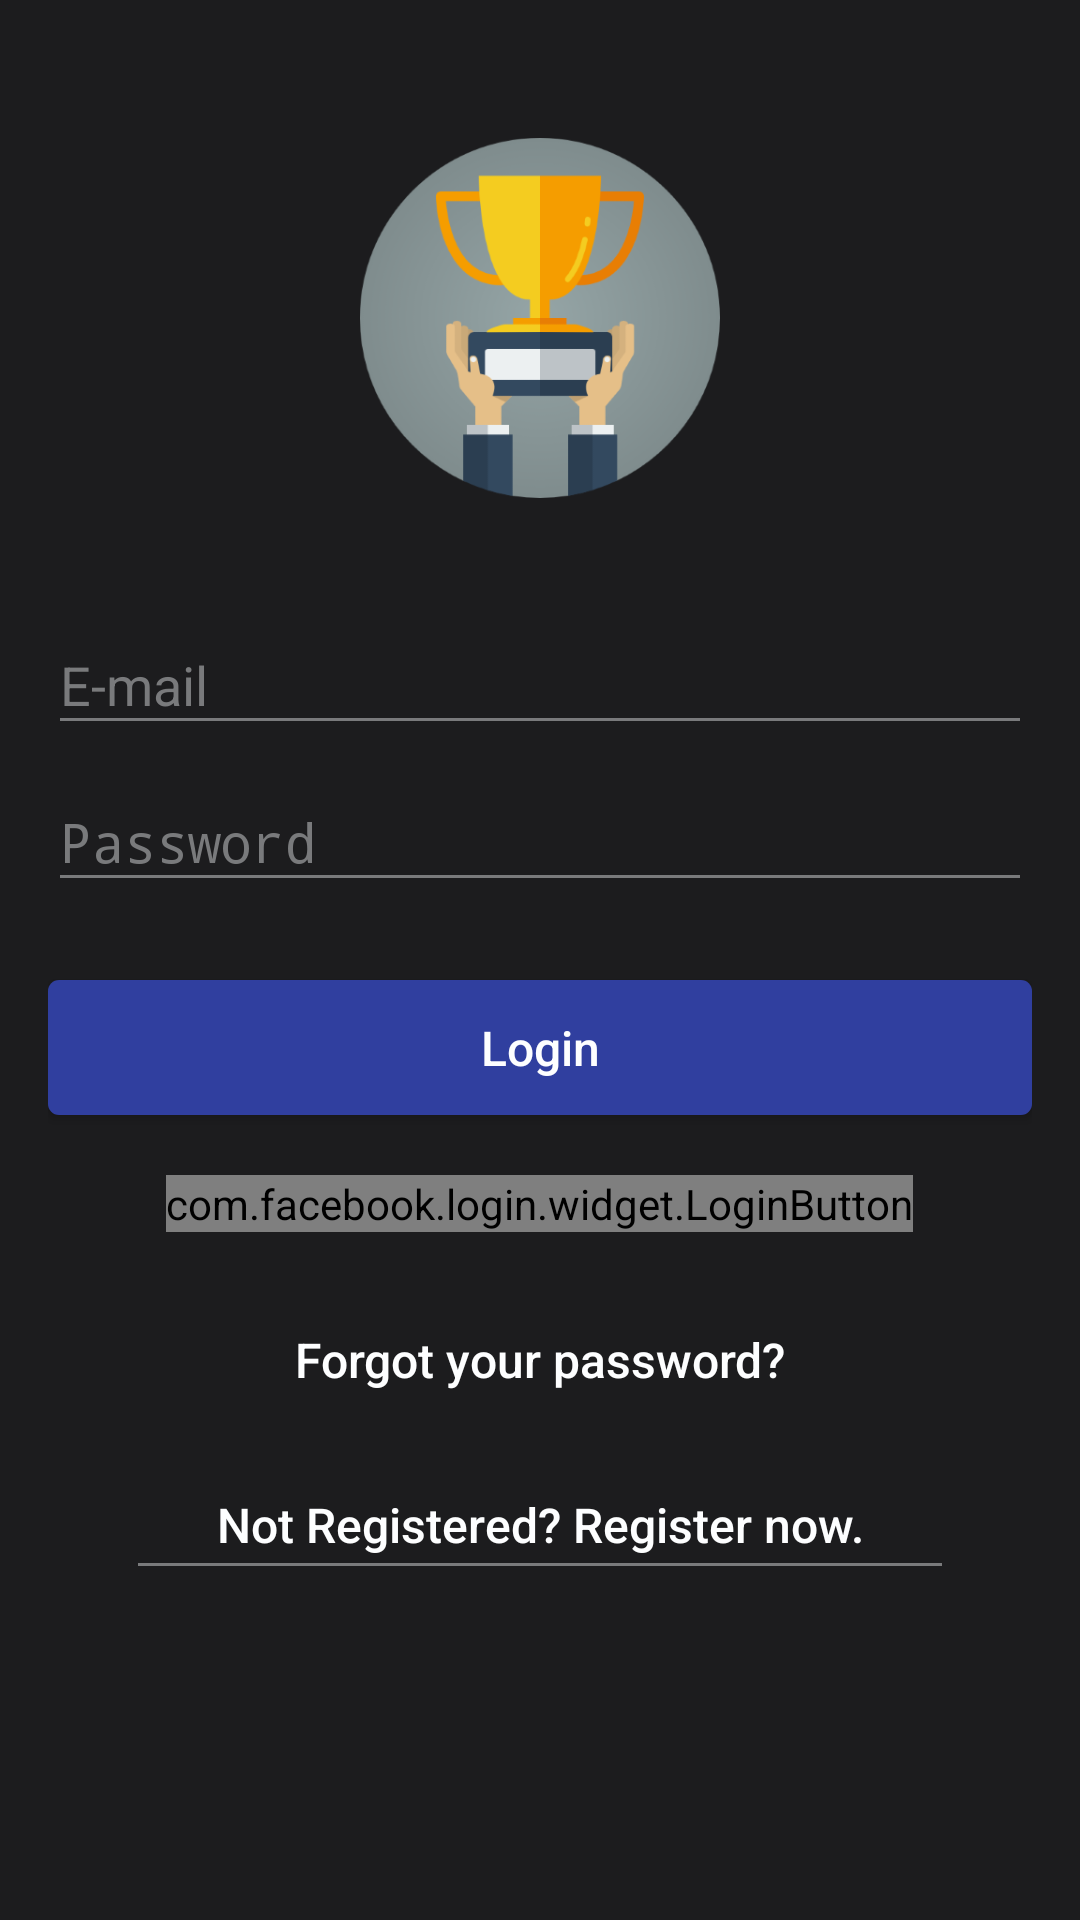

Icon bounding boxes for this 1080w x 1920h phone screenshot, format (x1, y1, x2, y2):
trophy: (360, 138, 720, 498)
